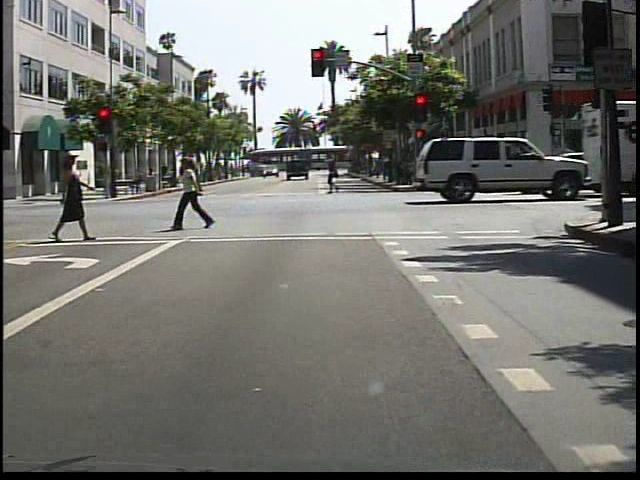person: (53, 147, 97, 246), (173, 155, 213, 232), (324, 150, 349, 197), (157, 159, 172, 186), (3, 151, 4, 247)
